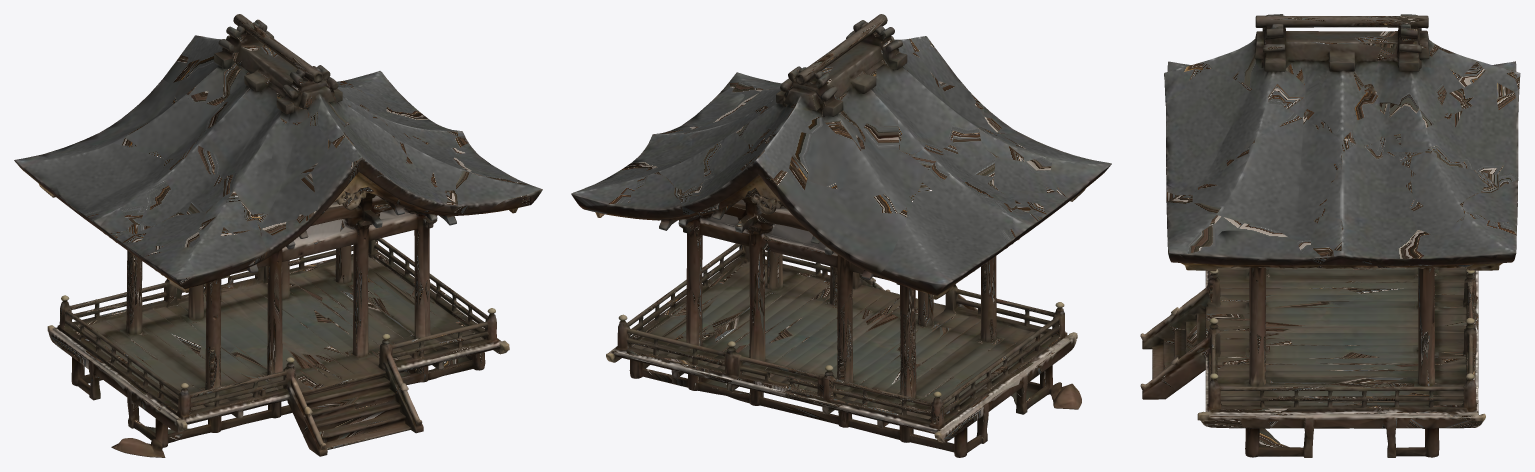
The model's file is shrine-lod.glb.
The picture shows the model from 3 angles, left to right: view 1: azimuth 30°, elevation 25°; view 2: azimuth 150°, elevation 25°; view 3: azimuth 270°, elevation 25°; orthographic projection. The views are drawn at different scales.
Parts seen in each view (by area): view 1: tripo_node_2e96b003-3eca-4e2f-86f2-2754cf64df05; view 2: tripo_node_2e96b003-3eca-4e2f-86f2-2754cf64df05; view 3: tripo_node_2e96b003-3eca-4e2f-86f2-2754cf64df05.
Boxes of the visible parts, bbox=[...] form: tripo_node_2e96b003-3eca-4e2f-86f2-2754cf64df05: bbox=[14, 14, 542, 457]; tripo_node_2e96b003-3eca-4e2f-86f2-2754cf64df05: bbox=[571, 14, 1111, 457]; tripo_node_2e96b003-3eca-4e2f-86f2-2754cf64df05: bbox=[1140, 14, 1520, 457].
Bounding box in the file's own units: 1 × 0.8298 × 0.8009.
Materials: 1 (1 with a texture image).
